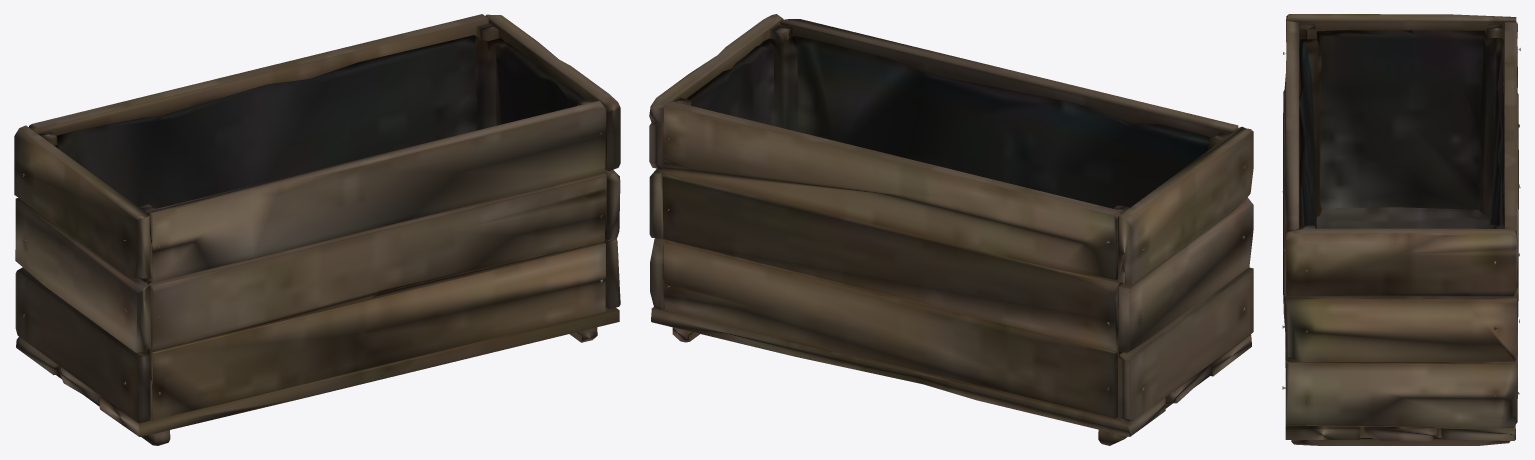
Rendered from cc0_planter_box.glb.
3 renders of one model, left to right at view 1: azimuth 30°, elevation 25°; view 2: azimuth 150°, elevation 25°; view 3: azimuth 270°, elevation 25°, orthographic. The views are drawn at different scales.
Visible parts, largest first — view 1: planter_box_01; view 2: planter_box_01; view 3: planter_box_01.
Part boxes in pixels (left/top/right/bottom): planter_box_01: left=14, top=14, right=620, bottom=445; planter_box_01: left=649, top=14, right=1253, bottom=445; planter_box_01: left=1282, top=14, right=1520, bottom=445.
Bounding box in the file's own units: 0.9126 × 0.425 × 0.4134.
Materials: 1 (1 with a texture image).
